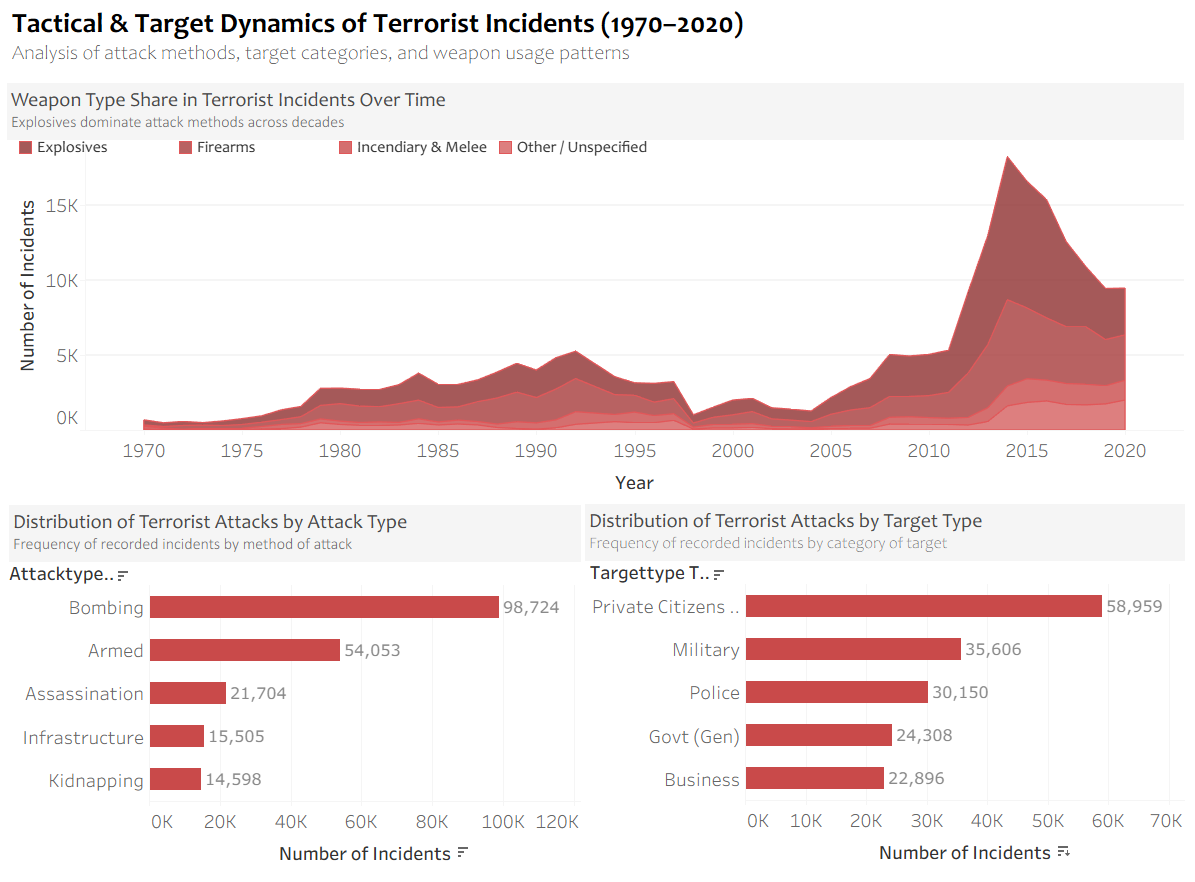

Layout of this report page (visuals, bound fields, positions):
{"tool":"tableau","page":{"name":"D 2 – Tactical & Target Dynamics","canvas":[1200,900],"ordinal":0},"visuals":[{"type":"text","box":[8,8,1184,89]},{"type":"worksheet","title":"Weapon Type Share Over Time","mark":"Area","rows":["eventid"],"cols":["iyear"],"box":[11,100,1177,418]},{"type":"legend","title":"Weapon Type Share Over Time","param":"[federated.1e4z73b0k8920x141qt450b07ayp].[Weapontype Txt (group)]","box":[19,154,877,22]},{"type":"worksheet","title":"Target Type Distribution","mark":"Automatic","rows":["targettype_txt"],"cols":["eventid"],"box":[589,521,600,367]},{"type":"worksheet","title":"Attack Type Distribution","mark":"Bar","rows":["attacktype_txt"],"cols":["eventid"],"box":[13,522,572,367]}]}

Visuals, with their boxes in screenshot pixels (x1, y1, x2, y2), scaled from the page's 1200x900 canvas onto the 1195x882 screenshot:
text: 8 8 1187 95
"Weapon Type Share Over Time" worksheet (Area marks): 11 98 1183 508
"Weapon Type Share Over Time" legend: 19 151 892 172
"Target Type Distribution" worksheet: 587 511 1184 870
"Attack Type Distribution" worksheet (Bar marks): 13 512 583 871
